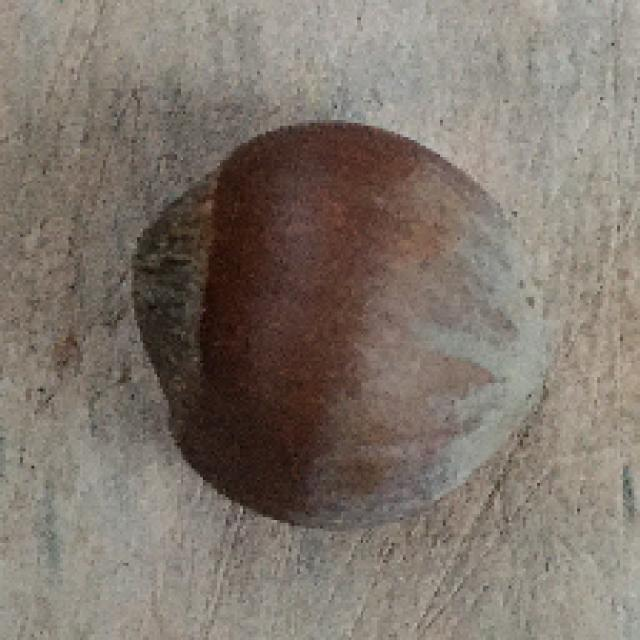damagedHazelnut: (126, 117, 554, 532)
